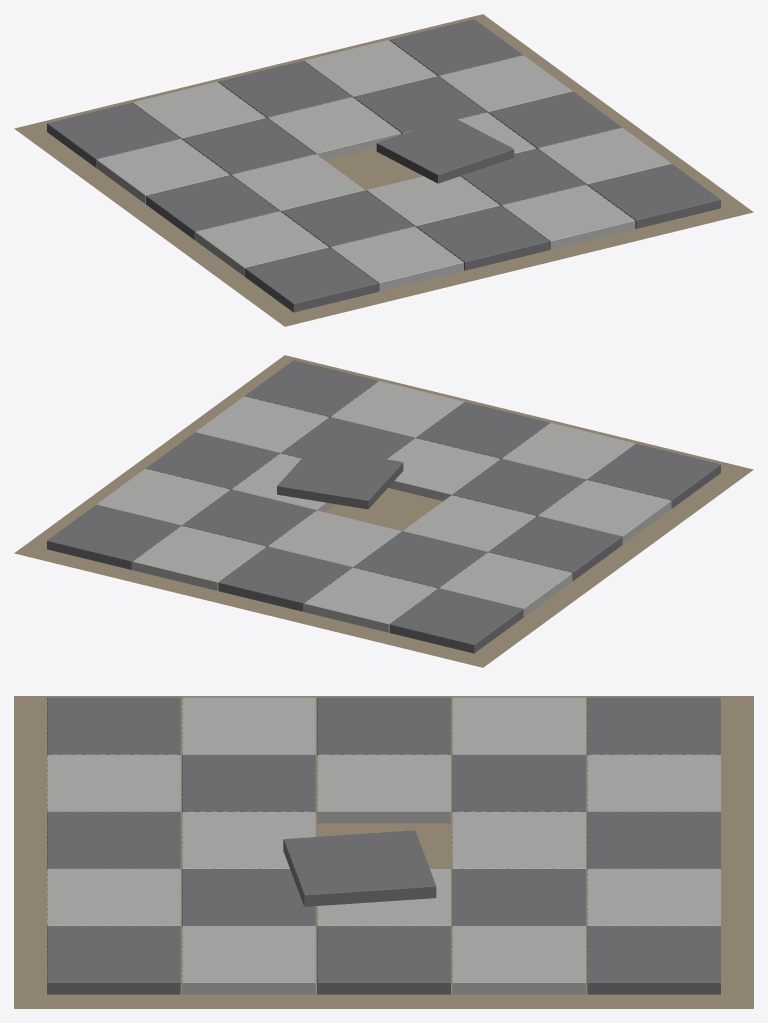
The model's file is terilgan.glb.
3 views of the same model, one above another, from view 1: azimuth 30°, elevation 25°; view 2: azimuth 150°, elevation 25°; view 3: azimuth 270°, elevation 25° (orthographic). The views are drawn at different scales.
Parts seen in each view (by area): view 1: qum, t.012, t, t.015, t.005, t.010, t.020, t.013, t.001, t.002, t.003, t.004 (+14 smaller); view 2: qum, t.004, t.012, t.019, t.009, t.014, t.024, t.002, t.003, t.001, t, t.006 (+14 smaller); view 3: qum, t.012, t.007, t.020, t.021, t.022, t.023, t.024, t, t.001, t.002, t.003 (+14 smaller).
Boxes of the visible parts, left/top/right/bottom form: qum: left=14, top=14, right=753, bottom=326; t.012: left=376, top=117, right=514, bottom=183; t: left=244, top=247, right=378, bottom=312; t.015: left=501, top=185, right=635, bottom=249; t.005: left=330, top=226, right=463, bottom=291; t.010: left=416, top=205, right=549, bottom=270; t.020: left=587, top=164, right=720, bottom=228; t.013: left=267, top=97, right=401, bottom=159; t.001: left=195, top=211, right=328, bottom=276; t.002: left=146, top=175, right=279, bottom=239; t.003: left=96, top=139, right=229, bottom=203; t.004: left=47, top=103, right=180, bottom=167; qum: left=14, top=355, right=753, bottom=667; t.004: left=389, top=588, right=523, bottom=653; t.012: left=277, top=447, right=403, bottom=509; t.019: left=132, top=526, right=266, bottom=590; t.009: left=304, top=567, right=437, bottom=632; t.014: left=218, top=546, right=351, bottom=611; t.024: left=47, top=505, right=180, bottom=569; t.002: left=488, top=516, right=621, bottom=580; t.003: left=439, top=552, right=572, bottom=617; t.001: left=538, top=480, right=671, bottom=544; t: left=587, top=444, right=720, bottom=508; t.006: left=452, top=459, right=585, bottom=516; qum: left=14, top=696, right=753, bottom=1008; t.012: left=283, top=830, right=436, bottom=906; t.007: left=317, top=754, right=450, bottom=823; t.020: left=47, top=926, right=180, bottom=994; t.021: left=182, top=926, right=315, bottom=994; t.022: left=317, top=926, right=450, bottom=994; t.023: left=452, top=926, right=585, bottom=994; t.024: left=587, top=926, right=720, bottom=994; t: left=47, top=697, right=180, bottom=754; t.001: left=182, top=697, right=315, bottom=754; t.002: left=317, top=697, right=450, bottom=754; t.003: left=452, top=697, right=585, bottom=754.
Bounding box in the file's own units: 1.66 × 0.062 × 1.66.
